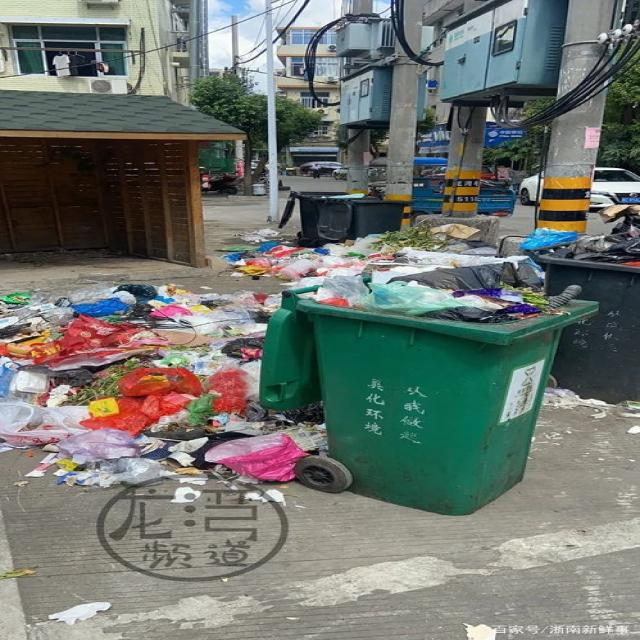garbage: (0, 282, 327, 503), (215, 221, 544, 287)
overflow: (262, 261, 596, 515), (526, 234, 639, 402), (315, 193, 413, 243)
